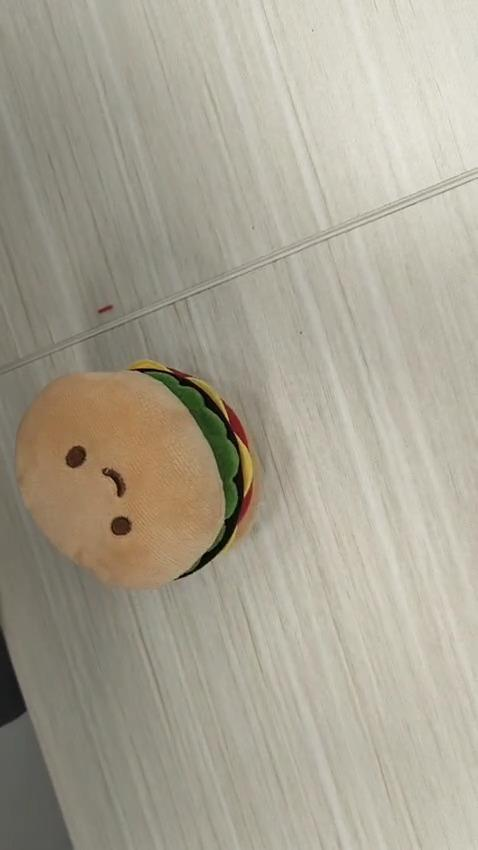hamburger: (13, 351, 271, 596)
